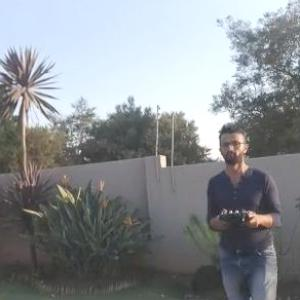follow: (202, 120, 286, 299)
